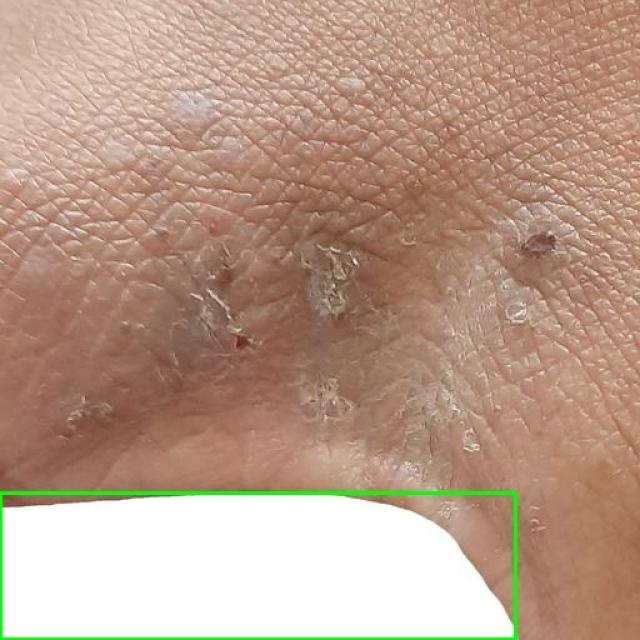Scabies: (0, 492, 515, 639)
